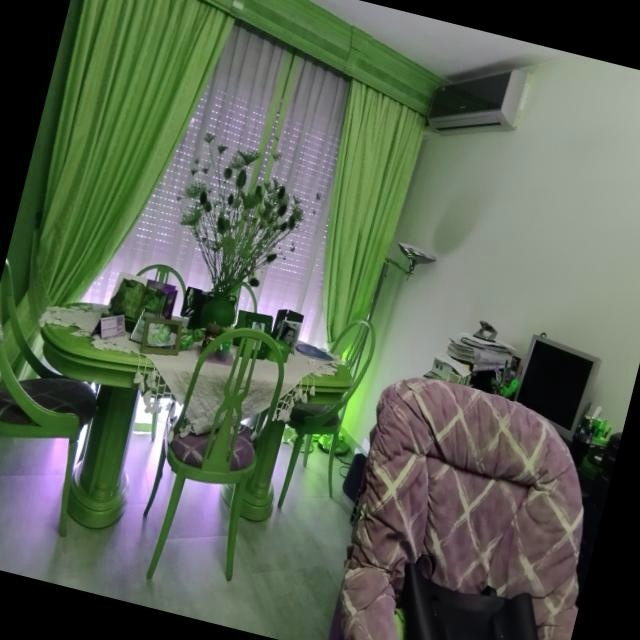chair: (327, 377, 583, 640), (142, 328, 284, 582), (0, 259, 98, 539), (277, 403, 347, 510), (329, 317, 375, 382)
lamp: (368, 263, 388, 322), (398, 244, 435, 267), (334, 442, 350, 461), (323, 435, 332, 453)
monitor: (516, 337, 598, 438)
stove: (38, 305, 199, 530), (278, 345, 346, 417), (238, 420, 286, 522)
